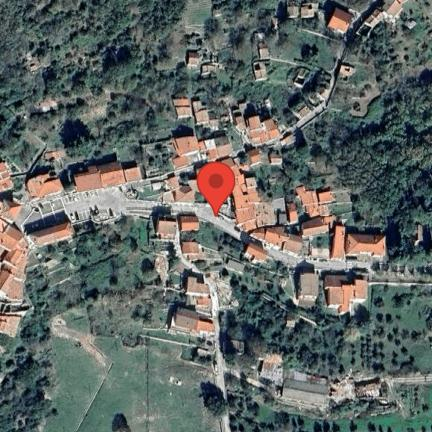area_open: (16, 197, 64, 227), (69, 204, 126, 222)
built: (35, 312, 202, 432), (165, 135, 300, 235), (207, 224, 318, 311), (232, 89, 327, 150), (0, 216, 30, 338), (75, 159, 142, 192), (301, 213, 345, 263), (277, 369, 335, 404), (245, 227, 304, 258), (363, 0, 413, 31), (325, 278, 368, 314), (166, 307, 217, 333), (296, 183, 334, 217), (27, 222, 74, 247), (25, 172, 65, 199), (155, 177, 194, 204), (347, 233, 387, 259), (183, 272, 211, 304), (194, 102, 222, 129), (245, 245, 271, 271), (152, 217, 178, 242), (168, 97, 196, 120), (0, 199, 23, 227), (326, 10, 354, 33), (0, 161, 15, 196), (300, 273, 319, 300), (182, 242, 200, 268), (357, 381, 383, 399), (35, 93, 58, 112), (153, 253, 167, 284), (181, 214, 200, 232), (254, 61, 272, 80), (290, 70, 307, 88), (247, 150, 263, 169), (336, 64, 354, 80), (256, 39, 271, 58), (284, 4, 299, 22), (43, 148, 65, 160), (301, 2, 320, 15), (199, 65, 217, 77), (22, 60, 40, 71), (186, 53, 200, 66), (407, 19, 418, 31), (265, 157, 281, 165), (265, 355, 274, 362)
vegetation_high: (0, 0, 190, 150), (223, 266, 370, 432), (317, 60, 432, 262), (0, 343, 55, 432), (68, 112, 159, 161)
vegetation_low: (0, 215, 217, 382), (94, 0, 350, 134), (326, 0, 432, 116), (258, 121, 353, 230), (253, 381, 432, 432), (357, 284, 431, 377), (58, 132, 162, 191), (15, 110, 69, 184), (343, 183, 343, 187)
